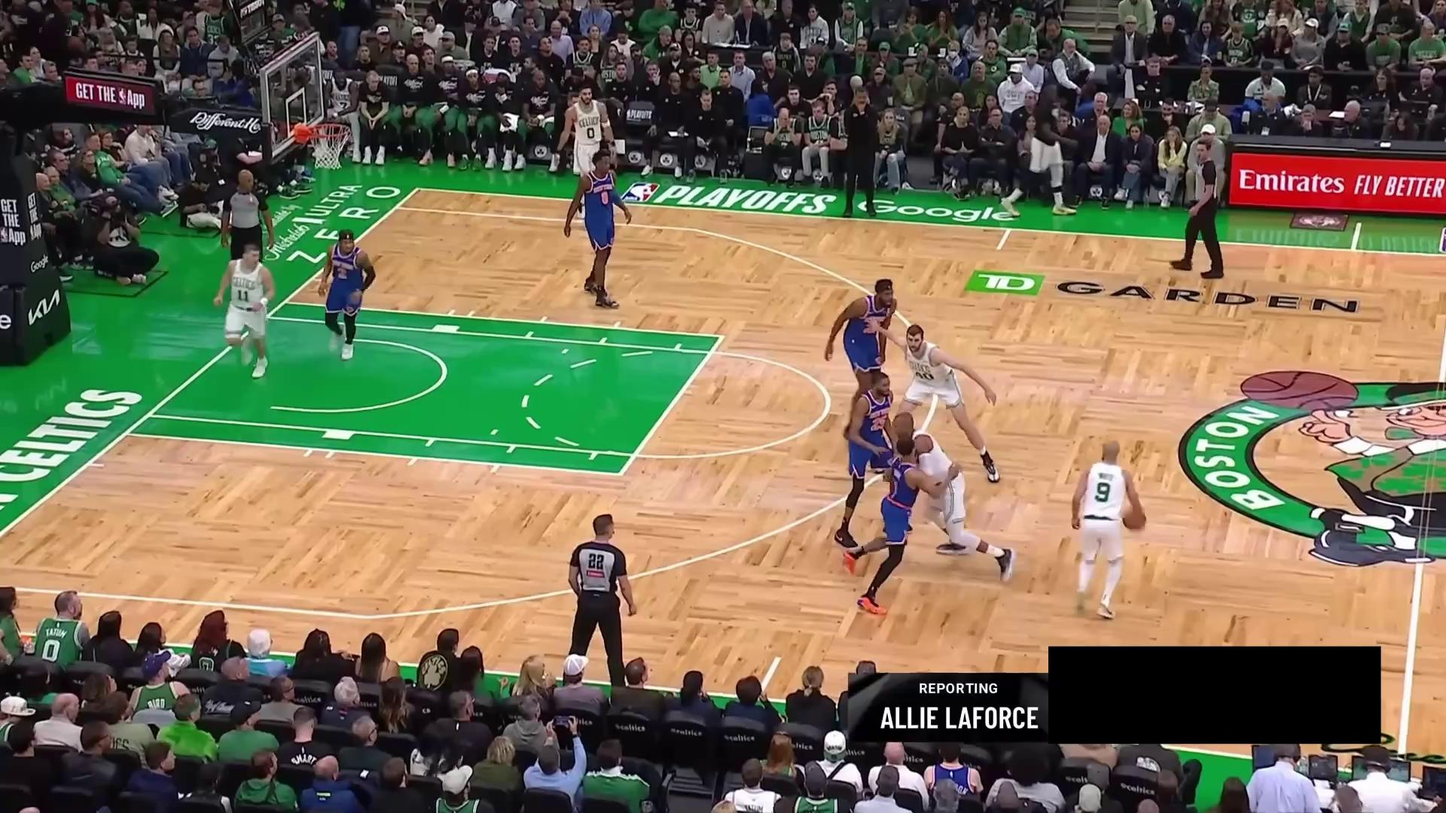ball: (1122, 505, 1147, 530)
number: (1092, 481, 1113, 505), (870, 414, 888, 432), (237, 288, 250, 303), (337, 266, 348, 280), (585, 126, 595, 140), (601, 190, 609, 205)
player: (863, 316, 1006, 488), (888, 408, 1017, 581), (839, 432, 959, 616), (829, 362, 908, 559), (822, 280, 910, 436), (566, 143, 635, 315), (549, 85, 621, 222), (214, 243, 278, 378), (318, 223, 379, 362)
player-in-possession: (1063, 433, 1151, 630)
referee: (563, 510, 641, 691), (1168, 140, 1228, 278), (218, 165, 278, 272)
rim: (307, 121, 352, 139)
